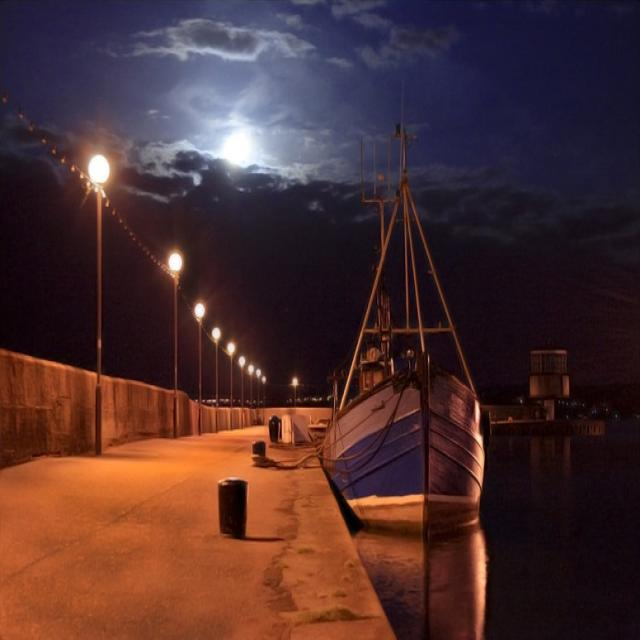Boat: (320, 121, 505, 564)
